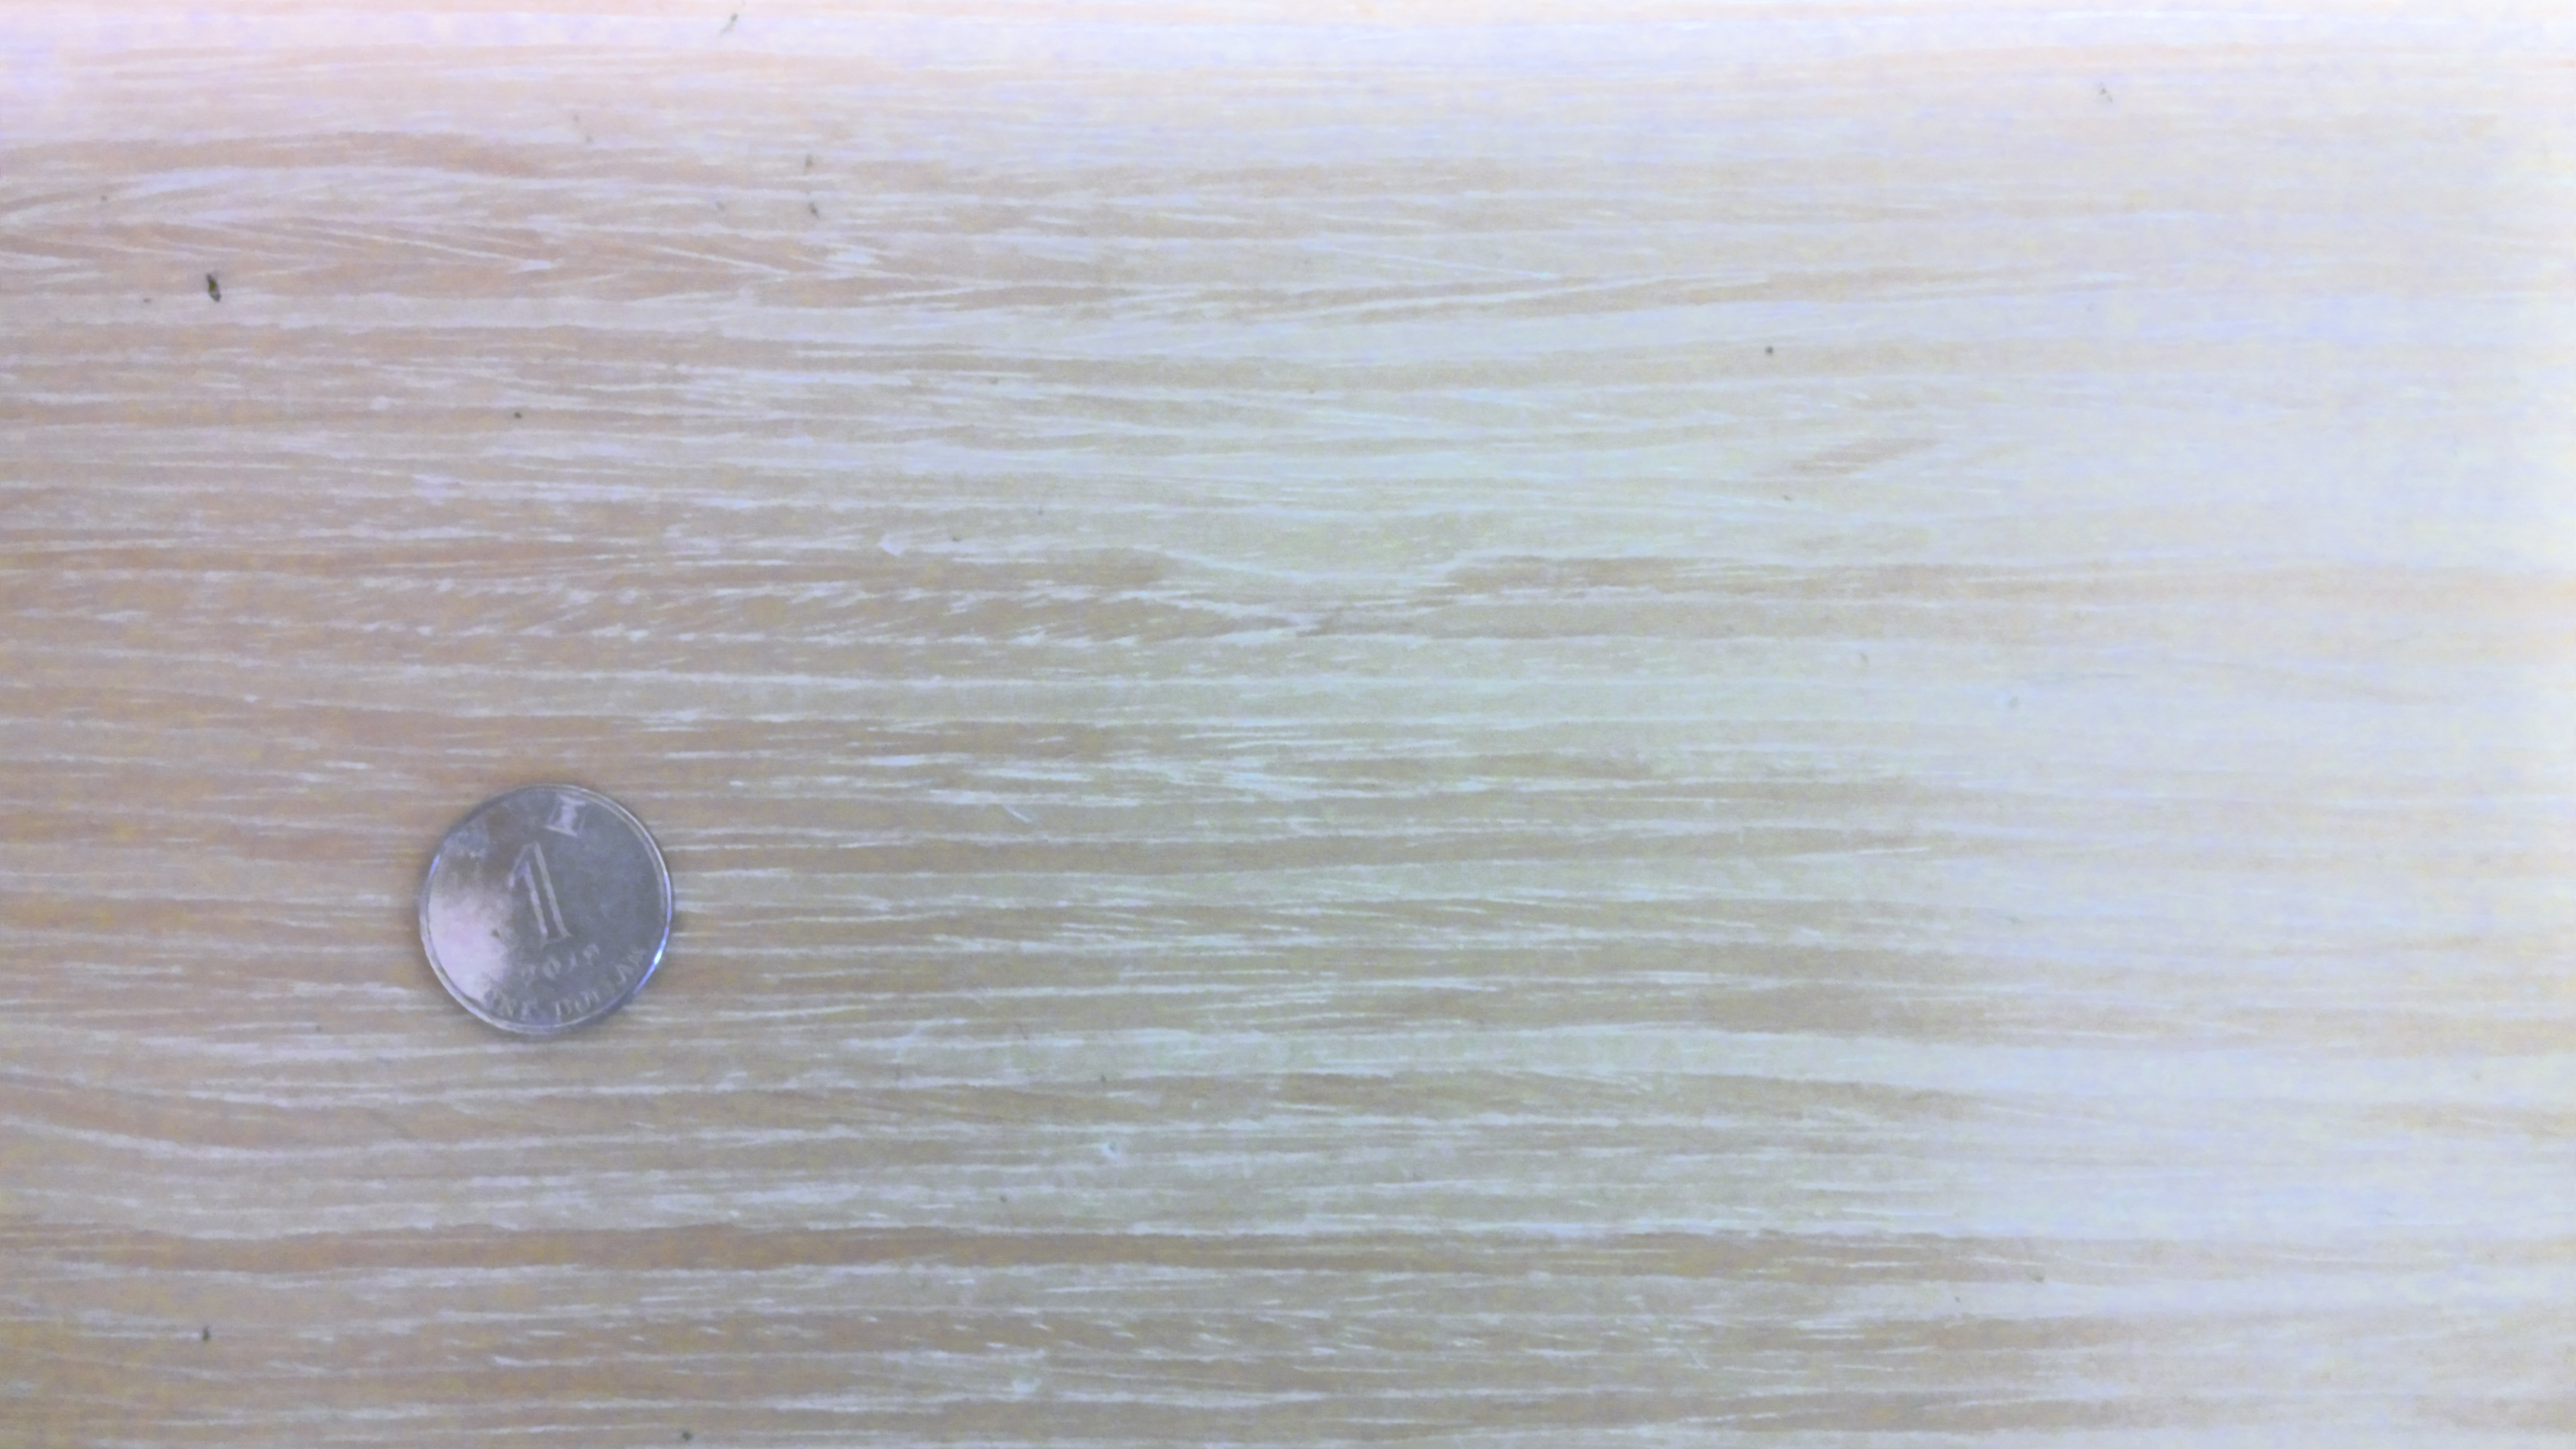one-dollar: (418, 784, 672, 1035)
